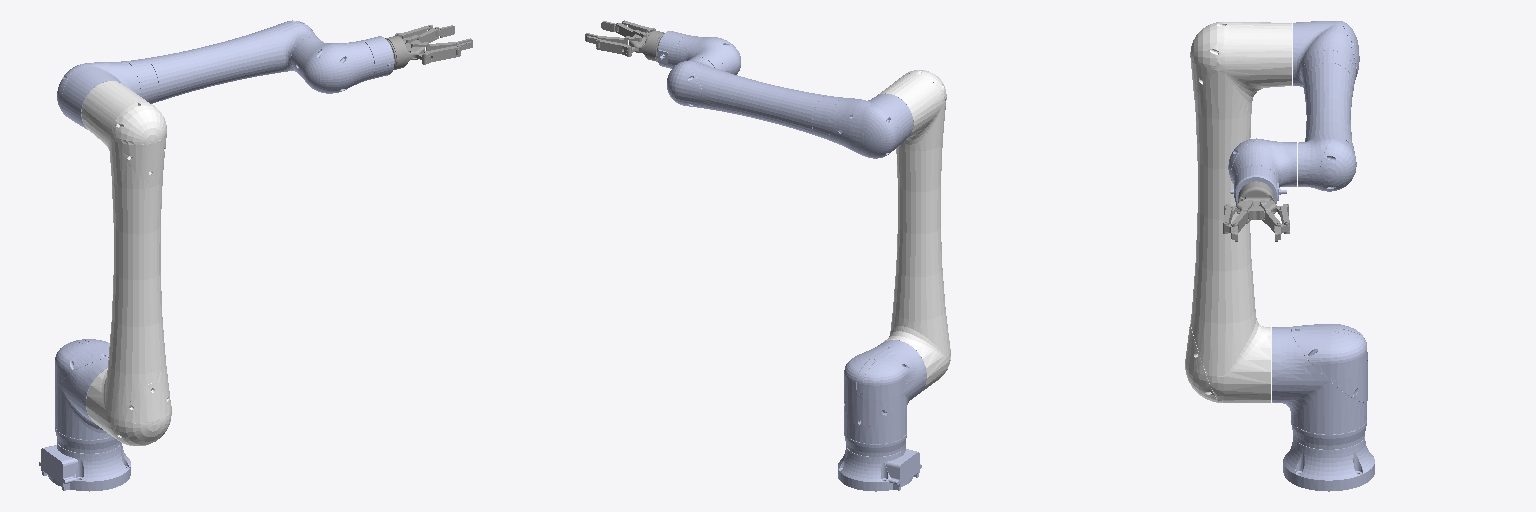
URDF robot description (fanuc):
<?xml version="1.0" encoding="utf-8"?>
<!-- This URDF was automatically created by SolidWorks to URDF Exporter! Originally created by Stephen Brawner ([email redacted]) 
     Commit Version: 1.6.0-4-g7f85cfe  Build Version: 1.6.7995.38578
     For more information, please see http://wiki.ros.org/sw_urdf_exporter -->
<robot
  name="fanuc">
  
  <link 
    name="world"/>
    
  <joint 
    name="base_joint" 
    type="fixed">
    <origin
      xyz="0 0 0.0"
      rpy="-1.57 0 0" />
    <parent
      link="world" />
    <child
      link="base_link" />
  </joint>
  
  <link
    name="base_link">
    <inertial>
      <origin xyz="-0.00329048 -0.02033528 0.00093672"/>
      <mass value="9.92000000"/>
      <inertia ixx="0.02528990" ixy="-0.00030938" ixz="-0.00000638" iyy="0.04289183" iyz="0.00000276" izz="0.02888818"/>
    </inertial>

    <visual>
      <origin
        xyz="0 0 0"
        rpy="0 0 0" />
      <geometry>
        <mesh
          filename="package://fanuc/meshes/base_link.STL" />
      </geometry>
      <material
        name="">
        <color
          rgba="0.79608 0.82353 0.93725 1" />
      </material>
    </visual>
    <collision>
      <origin
        xyz="0 0 0"
        rpy="0 0 0" />
      <geometry>
        <mesh
          filename="package://fanuc/meshes/base_link.STL" />
      </geometry>
    </collision>
  </link>
  
  <link
    name="Link_1">
    <inertial>
      <origin xyz="-0.00506694 0.00467160 0.11028854"/>
      <mass value="3.84000000"/>
      <inertia ixx="0.02569997" ixy="-0.00000034" ixz="-0.00000014" iyy="0.02211221" iyz="0.00168942" izz="0.01667992"/>
    </inertial>


    <visual>
      <origin
        xyz="0 0 0"
        rpy="0 0 0" />
      <geometry>
        <mesh
          filename="package://fanuc/meshes/Link_1.STL" />
      </geometry>
      <material
        name="">
        <color
          rgba="0.79608 0.82353 0.93725 1" />
      </material>
    </visual>
    <collision>
      <origin
        xyz="0 0 0"
        rpy="0 0 0" />
      <geometry>
        <mesh
          filename="package://fanuc/meshes/Link_1.STL" />
      </geometry>
    </collision>
  </link>
  
  <joint
    name="Joint_1"
    type="revolute">
    <origin
      xyz="0 -0.1277 0"
      rpy="1.5708 0 0" />
    <parent
      link="base_link" />
    <child
      link="Link_1" />
    <axis
      xyz="0 0 -1" />
    <limit
      lower="-3.31613"
      upper="3.31613"
      effort="0"
      velocity="2.094395" />
  </joint>
  
  <link
    name="Link_2">
    <inertial>
      <origin xyz="0.00051231 -0.24024661 0.38801491"/>
      <mass value="11.52000000"/>
      <inertia ixx="0.67622107" ixy="0.00000567" ixz="0.00002455" iyy="0.66076284" iyz="-0.02211019" izz="0.05165074"/>
    </inertial>

    <visual>
      <origin
        xyz="0 0 0"
        rpy="0 0 0" />
      <geometry>
        <mesh
          filename="package://fanuc/meshes/Link_2.STL" />
      </geometry>
      <material
        name="">
        <color
          rgba="1 1 1 1" />
      </material>
    </visual>
    <collision>
      <origin
        xyz="0 0 0"
        rpy="0 0 0" />
      <geometry>
        <mesh
          filename="package://fanuc/meshes/Link_2.STL" />
      </geometry>
    </collision>
  </link>
  
  <joint
    name="Joint_2"
    type="revolute">
    <origin
      xyz="0 0 0.1173"
      rpy="0 0 0" />
    <parent
      link="Link_1" />
    <child
      link="Link_2" />
    <axis
      xyz="0 -1 0" />
    <limit
      lower="-3.14159"
      upper="3.14159"
      effort="0"
      velocity="2.094395" />
  </joint>
  
  <link
    name="Link_3">
    <inertial>
      <origin xyz="0.01750312 0.02330679 -0.00063791"/>
      <mass value="2.88000000"/>
      <inertia ixx="0.00684691" ixy="-0.00047246" ixz="0.00000038" iyy="0.01280498" iyz="0.00000009" izz="0.01307738"/>
    </inertial>

    <visual>
      <origin
        xyz="0 0 0"
        rpy="0 0 0" />
      <geometry>
        <mesh
          filename="package://fanuc/meshes/Link_3.STL" />
      </geometry>
      <material
        name="">
        <color
          rgba="0.796078431372549 0.823529411764706 0.937254901960784 1" />
      </material>
    </visual>
    <collision>
      <origin
        xyz="0 0 0"
        rpy="0 0 0" />
      <geometry>
        <mesh
          filename="package://fanuc/meshes/Link_3.STL" />
      </geometry>
    </collision>
  </link>
  
  <joint
    name="Joint_3"
    type="revolute">
    <origin
      xyz="0 0 0.71"
      rpy="0 0 0" />
    <parent
      link="Link_2" />
    <child
      link="Link_3" />
    <axis
      xyz="0 -1 0" />
    <limit
      lower="-4.97419"
      upper="4.97419"
      effort="0"
      velocity="3.141593" />
  </joint>
  
  <link
    name="Link_4">
    <inertial>
      <origin xyz="-0.02240763 0.00549191 -0.00001857"/>
      <mass value="8.64000000"/>
      <inertia ixx="0.01445615" ixy="0.00238610" ixz="0.00000151" iyy="0.13431462" iyz="0.00000302" izz="0.13541640"/>
    </inertial>

    <visual>
      <origin
        xyz="0 0 0"
        rpy="0 0 0" />
      <geometry>
        <mesh
          filename="package://fanuc/meshes/Link_4.STL" />
      </geometry>
      <material
        name="">
        <color
          rgba="0.796078431372549 0.823529411764706 0.937254901960784 1" />
      </material>
    </visual>
    <collision>
      <origin
        xyz="0 0 0"
        rpy="0 0 0" />
      <geometry>
        <mesh
          filename="package://fanuc/meshes/Link_4.STL" />
      </geometry>
    </collision>
  </link>
  
  <joint
    name="Joint_4"
    type="revolute">
    <origin
      xyz="0.54 0 0"
      rpy="0 0 0" />
    <parent
      link="Link_3" />
    <child
      link="Link_4" />
    <axis
      xyz="-1 0 0" />
    <limit
      lower="-3.31615"
      upper="3.31615"
      effort="0"
      velocity="3.1416" />
  </joint>
  
  <link
    name="Link_5">
    <inertial>
      <origin xyz="0.00048703 0.00243462 -0.00008948"/>
      <mass value="1.60000000"/>
      <inertia ixx="0.00311136" ixy="0.00029011" ixz="-0.00000001" iyy="0.00354547" iyz="-0.00000000" izz="0.00441730"/>
    </inertial>

    <visual>
      <origin
        xyz="0 0 0"
        rpy="0 0 0" />
      <geometry>
        <mesh
          filename="package://fanuc/meshes/Link_5.STL" />
      </geometry>
      <material
        name="">
        <color
          rgba="0.796078431372549 0.823529411764706 0.937254901960784 1" />
      </material>
    </visual>
    <collision>
      <origin
        xyz="0 0 0"
        rpy="0 0 0" />
      <geometry>
        <mesh
          filename="package://fanuc/meshes/Link_5.STL" />
      </geometry>
    </collision>
  </link>
  
  <joint
    name="Joint_5"
    type="revolute">
    <origin
      xyz="0 -0.15 0"
      rpy="0 0 0" />
    <parent
      link="Link_4" />
    <child
      link="Link_5" />
    <axis
      xyz="0 -1 0" />
    <limit
      lower="-3.14159"
      upper="3.14159"
      effort="0"
      velocity="3.1416" />
  </joint>
  
  <link
    name="Link_6">
    <inertial>
      <origin xyz="-0.01318563 0.00056378 -0.00024276"/>
      <mass value="1.60000000"/>
      <inertia ixx="0.00177658" ixy="0.00000062" ixz="-0.00000001" iyy="0.00120978" iyz="0.00000003" izz="0.00141833"/>
    </inertial>

    <visual>
      <origin
        xyz="0 0 0"
        rpy="0 0 0" />
      <geometry>
        <mesh
          filename="package://fanuc/meshes/Link_6.STL" />
      </geometry>
      <material
        name="">
        <color
          rgba="0.792156862745098 0.819607843137255 0.933333333333333 1" />
      </material>
    </visual>
    <collision>
      <origin
        xyz="0 0 0"
        rpy="0 0 0" />
      <geometry>
        <mesh
          filename="package://fanuc/meshes/Link_6.STL" />
      </geometry>
    </collision>
  </link>
  
  <joint
    name="Joint_6"
    type="revolute">
    <origin
      xyz="0.16 0 0"
      rpy="0 0 0" />
    <parent
      link="Link_5" />
    <child
      link="Link_6" />
    <axis
      xyz="1 0 0" />
    <limit
      lower="-3.927"
      upper="3.927"
      effort="0"
      velocity="3.1416" />
  </joint>
  
  <link name="ee_link"/>
  
  <joint name="ee_fixed_joint" type="fixed">
    <parent link="Link_6"/>
    <child link="ee_link"/>
    <origin rpy="0.0 0.0 0" xyz="0.0 0.0 0.0"/>
  </joint>
  
  <joint 
    name="robotiq_140_base_joint" 
    type="fixed">
    <parent 
      link="ee_link"/>
    <child 
      link="robotiq_140_base_link"/>
    <origin 
      rpy="0.0 0.0 0.0" 
      xyz="0.0 0.0 0.0"/>
  </joint>
    
  <link 
    name="robotiq_140_base_link">
    <visual>
      <geometry>
        <mesh 
          filename="package://fanuc/meshes/robotiq_140/visual/robotiq_140_base_link.dae"/>
      </geometry>
    </visual>
    <inertial>
      <mass 
        value="0.636951"/>
      <origin 
        xyz="0.0 0.0 0.0"/>
      <inertia ixx="0.000380" ixy="0.000000" ixz="0.000000" iyx="0.000000" iyy="0.001110" iyz="0.000000" izx="0.000000" izy="0.000000" izz="0.001171"/>
    </inertial>
    <collision>
      <origin
        xyz="0 0 0"
        rpy="0 0 0" />
      <geometry>
        <mesh
          filename="package://fanuc/meshes/robotiq_140/collision/robotiq_140_base_link.stl" />
      </geometry>
    </collision>
  </link>
  
  <joint 
    name="robotiq_140_left_knuckle_joint" 
    type="revolute">
    <parent link="robotiq_140_base_link"/>
    <child link="robotiq_140_left_knuckle_link"/>
    <axis xyz="0 0 1"/>
    <origin rpy="3.14 0.0 0.0" xyz="0.05490452 0.03060114 0.0"/>
    <limit effort="1000" lower="-0.402" upper="0.402" velocity="2.0"/>
  </joint>
    
  <joint 
    name="robotiq_140_right_knuckle_joint" 
    type="continuous">
    <parent link="robotiq_140_base_link"/>
    <child link="robotiq_140_right_knuckle_link"/>
    <axis xyz="0 0 1"/>
    <origin rpy="0.0 0.0 0.0" xyz="0.05490452 -0.03060114 0.0"/>
    <limit effort="1000" lower="-3.14" upper="3.14" velocity="100.0"/>
    <mimic joint="robotiq_140_left_knuckle_joint"/>
  </joint>
    
  <link 
    name="robotiq_140_left_knuckle_link">
    <visual>
      <geometry>
        <mesh filename="package://fanuc/meshes/robotiq_140/visual/robotiq_140_knuckle_link.dae"/>
      </geometry>
    </visual>
    <inertial>
      <mass value="0.018491"/>
      <origin xyz="0.0 0.0 0.0"/>
      <inertia ixx="0.000009" ixy="-0.000001" ixz="0.000000" iyx="-0.000001" iyy="0.000001" iyz="0.000000" izx="0.000000" izy="0.000000" izz="0.000010"/>
    </inertial>
    <collision>
      <origin
        xyz="0 0 0"
        rpy="0 0 0" />
      <geometry>
        <mesh
          filename="package://fanuc/meshes/robotiq_140/collision/robotiq_140_knuckle_link.stl" />
      </geometry>
    </collision>
  </link>
    
  <link 
    name="robotiq_140_right_knuckle_link">
    <visual>
      <geometry>
        <mesh filename="package://fanuc/meshes/robotiq_140/visual/robotiq_140_knuckle_link.dae"/>
      </geometry>
    </visual>
    <inertial>
      <mass value="0.018491"/>
      <origin xyz="0.0 0.0 0.0"/>
      <inertia ixx="0.000009" ixy="-0.000001" ixz="0.000000" iyx="-0.000001" iyy="0.000001" iyz="0.000000" izx="0.000000" izy="0.000000" izz="0.000010"/>
    </inertial>
    <collision>
      <origin
        xyz="0 0 0"
        rpy="0 0 0" />
      <geometry>
        <mesh
          filename="package://fanuc/meshes/robotiq_140/collision/robotiq_140_knuckle_link.stl" />
      </geometry>
    </collision>
  </link>
    
  <joint 
    name="robotiq_140_left_finger_joint" 
    type="fixed">
    <parent link="robotiq_140_left_knuckle_link"/>
    <child link="robotiq_140_left_finger_link"/>
    <origin rpy="0 0 0" xyz="0.00795779 -0.03073656 0.0"/>
  </joint>
    
  <joint 
    name="robotiq_140_right_finger_joint" 
    type="fixed">
    <parent link="robotiq_140_right_knuckle_link"/>
    <child link="robotiq_140_right_finger_link"/>
    <origin rpy="0 0 0" xyz="0.00795779 -0.03073656 0.0"/>
  </joint>
    
  <link 
    name="robotiq_140_left_finger_link">
    <visual>
      <geometry>
        <mesh filename="package://fanuc/meshes/robotiq_140/visual/robotiq_140_finger_link.dae"/>
      </geometry>
    </visual>
    <inertial>
      <mass value="0.027309"/>
      <origin xyz="0.0 0.0 0.0"/>
      <inertia ixx="0.000003" ixy="-0.000002" ixz="0.000000" iyx="-0.000002" iyy="0.000021" iyz="0.000000" izx="0.000000" izy="0.000000" izz="0.000020"/>
    </inertial>
    <collision>
      <origin
        xyz="0 0 0"
        rpy="0 0 0" />
      <geometry>
        <mesh
          filename="package://fanuc/meshes/robotiq_140/collision/robotiq_140_finger_link.stl" />
      </geometry>
    </collision>
  </link>
  
  <link 
    name="robotiq_140_right_finger_link">
    <visual>
      <geometry>
        <mesh filename="package://fanuc/meshes/robotiq_140/visual/robotiq_140_finger_link.dae"/>
      </geometry>
    </visual>
    <inertial>
      <mass value="0.027309"/>
      <origin xyz="0.0 0.0 0.0"/>
      <inertia ixx="0.000003" ixy="-0.000002" ixz="0.000000" iyx="-0.000002" iyy="0.000021" iyz="0.000000" izx="0.000000" izy="0.000000" izz="0.000020"/>
    </inertial>
    <collision>
      <origin
        xyz="0 0 0"
        rpy="0 0 0" />
      <geometry>
        <mesh
          filename="package://fanuc/meshes/robotiq_140/collision/robotiq_140_finger_link.stl" />
      </geometry>
    </collision>
  </link>
  
  <joint 
    name="robotiq_140_left_inner_knuckle_joint" 
    type="continuous">
    <parent link="robotiq_140_base_link"/>
    <child link="robotiq_140_left_inner_knuckle_link"/>
    <axis xyz="0 0 1"/>
    <origin rpy="3.14 0.0 0.0" xyz="0.06142 0.0127 0"/>
    <limit effort="0.1" lower="-3.14" upper="3.14" velocity="100.0"/>
    <mimic joint="robotiq_140_left_knuckle_joint" offset="0"/>
  </joint>
    
  <joint 
    name="robotiq_140_right_inner_knuckle_joint" 
    type="continuous">
    <parent link="robotiq_140_base_link"/>
    <child link="robotiq_140_right_inner_knuckle_link"/>
    <axis xyz="0 0 1"/>
    <origin rpy="0 0 0" xyz="0.06142 -0.0127 0"/>
    <limit effort="0.1" lower="-3.14" upper="3.14" velocity="100.0"/>
    <mimic joint="robotiq_140_left_knuckle_joint" offset="0"/>
  </joint>
    
  <link 
    name="robotiq_140_left_inner_knuckle_link">
    <visual>
      <geometry>
        <mesh filename="package://fanuc/meshes/robotiq_140/visual/robotiq_140_inner_knuckle_link.dae"/>
      </geometry>
    </visual>
    <inertial>
      <mass value="0.029951"/>
      <origin xyz="0.0 0.0 0.0"/>
      <inertia ixx="0.000039" ixy="0.000000" ixz="0.000000" iyx="0.000000" iyy="0.000005" iyz="0.000000" izx="0.000000" izy="0.000000" izz="0.000035"/>
    </inertial>
    <collision>
      <origin
        xyz="0 0 0"
        rpy="0 0 0" />
      <geometry>
        <mesh
          filename="package://fanuc/meshes/robotiq_140/collision/robotiq_140_inner_knuckle_link.stl" />
      </geometry>
    </collision>  
  </link>
  
  <link 
    name="robotiq_140_right_inner_knuckle_link">
    <visual>
      <geometry>
        <mesh filename="package://fanuc/meshes/robotiq_140/visual/robotiq_140_inner_knuckle_link.dae"/>
      </geometry>
    </visual>
    <inertial>
      <mass value="0.029951"/>
      <origin xyz="0.0 0.0 0.0"/>
      <inertia ixx="0.000039" ixy="0.000000" ixz="0.000000" iyx="0.000000" iyy="0.000005" iyz="0.000000" izx="0.000000" izy="0.000000" izz="0.000035"/>
    </inertial>
    <collision>
      <origin
        xyz="0 0 0"
        rpy="0 0 0" />
      <geometry>
        <mesh
          filename="package://fanuc/meshes/robotiq_140/collision/robotiq_140_inner_knuckle_link.stl" />
      </geometry>
    </collision> 
  </link>
 
  <joint 
    name="robotiq_140_left_finger_tip_joint" 
    type="continuous">
    <parent link="robotiq_140_left_inner_knuckle_link"/>
    <child link="robotiq_140_left_finger_tip_link"/>
    <axis xyz="0 0 1"/>
    <origin rpy="0.0 0.0 0.0" xyz="0.09441861 -0.03294127 0.0"/>
    <limit effort="0.1" lower="-3.14" upper="3.14" velocity="100.0"/>
    <mimic joint="robotiq_140_left_knuckle_joint" multiplier="-1"/>
  </joint>
 
  <joint 
    name="robotiq_140_right_finger_tip_joint" 
    type="continuous">
    <parent link="robotiq_140_right_inner_knuckle_link"/>
    <child link="robotiq_140_right_finger_tip_link"/>
    <axis xyz="0 0 1"/>
    <origin rpy="0.0 0.0 0.0" xyz="0.09441861 -0.03294127  0.0"/>
    <limit effort="0.1" lower="-3.14" upper="3.14" velocity="100.0"/>
    <mimic joint="robotiq_140_left_knuckle_joint" multiplier="-1"/>
  </joint>
 
  <link 
    name="robotiq_140_left_finger_tip_link">
    <visual>
      <geometry>
        <mesh filename="package://fanuc/meshes/robotiq_140/visual/robotiq_140_finger_tip_link.dae"/>
      </geometry>
    </visual>
    <inertial>
      <mass value="0.019555"/>
      <origin xyz="0.0 0.0 0.0"/>
      <inertia ixx="0.000002" ixy="0.000000" ixz="0.000000" iyx="0.000000" iyy="0.000005" iyz="0.000000" izx="0.000000" izy="0.000000" izz="0.000006"/>
    </inertial>
    <collision>
      <origin
        xyz="0 0 0"
        rpy="0 0 0" />
      <geometry>
        <mesh
          filename="package://fanuc/meshes/robotiq_140/collision/robotiq_140_finger_tip_link.stl" />
      </geometry>
    </collision> 
  </link>
    
  <link 
    name="robotiq_140_right_finger_tip_link">
    <visual>
      <geometry>
        <mesh filename="package://fanuc/meshes/robotiq_140/visual/robotiq_140_finger_tip_link.dae"/>
      </geometry>
    </visual>
    <inertial>
      <mass value="0.019555"/>
      <origin xyz="0.0 0.0 0.0"/>
      <inertia ixx="0.000002" ixy="0.000000" ixz="0.000000" iyx="0.000000" iyy="0.000005" iyz="0.000000" izx="0.000000" izy="0.000000" izz="0.000006"/>
    </inertial>
    <collision>
      <origin
        xyz="0 0 0"
        rpy="0 0 0" />
      <geometry>
        <mesh
          filename="package://fanuc/meshes/robotiq_140/collision/robotiq_140_finger_tip_link.stl" />
      </geometry>
    </collision> 
  </link>
  
  <transmission 
    name="Link_1_Trans">
    <type>
      transmission_interface/SimpleTransmission
    </type>
    <joint 
    	name="Joint_1">
      <hardwareInterface>
        hardware_interface/PositionJointInterface
      </hardwareInterface>
    </joint>
    <actuator
      name="Joint_1_Motor">
      <hardwareInterface>
        hardware_interface/PositionJointInterface
      </hardwareInterface>
      <mechanicalReduction>1</mechanicalReduction>
    </actuator>
  </transmission>
  
  <transmission 
    name="Link_2_Trans">
    <type>
      transmission_interface/SimpleTransmission
    </type>
    <joint 
    	name="Joint_2">
      <hardwareInterface>
        hardware_interface/PositionJointInterface
      </hardwareInterface>
    </joint>
    <actuator
      name="Joint_2_Motor">
      <hardwareInterface>
        hardware_interface/PositionJointInterface
      </hardwareInterface>
      <mechanicalReduction>1</mechanicalReduction>
    </actuator>
  </transmission>
  
  <transmission 
    name="Link_3_Trans">
    <type>
      transmission_interface/SimpleTransmission
    </type>
    <joint 
    	name="Joint_3">
      <hardwareInterface>
        hardware_interface/PositionJointInterface
      </hardwareInterface>
    </joint>
    <actuator
      name="Joint_3_Motor">
      <hardwareInterface>
        hardware_interface/PositionJointInterface
      </hardwareInterface>
      <mechanicalReduction>1</mechanicalReduction>
    </actuator>
  </transmission>
  
  <transmission 
    name="Link_4_Trans">
    <type>
      transmission_interface/SimpleTransmission
    </type>
    <joint 
    	name="Joint_4">
      <hardwareInterface>
        hardware_interface/PositionJointInterface
      </hardwareInterface>
    </joint>
    <actuator
      name="Joint_4_Motor">
      <hardwareInterface>
        hardware_interface/PositionJointInterface
      </hardwareInterface>
      <mechanicalReduction>1</mechanicalReduction>
    </actuator>
  </transmission>
  
  <transmission 
    name="Link_5_Trans">
    <type>
      transmission_interface/SimpleTransmission
    </type>
    <joint 
    	name="Joint_5">
      <hardwareInterface>
        hardware_interface/PositionJointInterface
      </hardwareInterface>
    </joint>
    <actuator
      name="Joint_5_Motor">
      <hardwareInterface>
        hardware_interface/PositionJointInterface
      </hardwareInterface>
      <mechanicalReduction>1</mechanicalReduction>
    </actuator>
  </transmission>
  
  <transmission 
    name="Link_6_Trans">
    <type>
      transmission_interface/SimpleTransmission
    </type>
    <joint 
    	name="Joint_6">
      <hardwareInterface>
        hardware_interface/PositionJointInterface
      </hardwareInterface>
    </joint>
    <actuator
      name="Joint_6_Motor">
      <hardwareInterface>
        hardware_interface/PositionJointInterface
      </hardwareInterface>
      <mechanicalReduction>1</mechanicalReduction>
    </actuator>
  </transmission>
  
  <transmission name="robotiq_140_left_knuckle_trans">
    <type>transmission_interface/SimpleTransmission</type>
    <joint name="robotiq_140_left_knuckle_joint">
      <hardwareInterface>hardware_interface/PositionJointInterface</hardwareInterface>
    </joint>
      <actuator name="robotiq_140_left_knuckle_motor">
      <mechanicalReduction>1</mechanicalReduction>
      <hardwareInterface>hardware_interface/PositionJointInterface</hardwareInterface>
    </actuator>
  </transmission>

  <gazebo>
    <plugin
      name="control"
      filename="libgazebo_ros_control.so">
      <robotNamespace>/</robotNamespace>
    </plugin>
  </gazebo>
  
  <gazebo
    reference="Link_1">
    <selfCollide>true</selfCollide>
  </gazebo>
  
  <gazebo
    reference="Link_2">
    <selfCollide>true</selfCollide>
  </gazebo>
  
  <gazebo
    reference="Link_3">
    <selfCollide>true</selfCollide>
  </gazebo>
  
  <gazebo
    reference="Link_4">
    <selfCollide>true</selfCollide>
  </gazebo>
  
  <gazebo
    reference="Link_5">
    <selfCollide>true</selfCollide>
  </gazebo>
  
  <gazebo
    reference="Link_6">
    <selfCollide>true</selfCollide>
  </gazebo>
  
  <gazebo>
    <plugin filename="libroboticsgroup_gazebo_mimic_joint_plugin.so" name="mimic_robotiq_140_1">
      <robotNamespace>/</robotNamespace>
      <joint>robotiq_140_left_knuckle_joint</joint>
      <mimicJoint>robotiq_140_right_knuckle_joint</mimicJoint>
      <!--multiplier>1.0</multiplier>
            <offset>0.0</offset-->
    </plugin>
    
    <plugin filename="libroboticsgroup_gazebo_mimic_joint_plugin.so" name="mimic_robotiq_140_2">
      <robotNamespace>/</robotNamespace>
      <joint>robotiq_140_left_knuckle_joint</joint>
      <mimicJoint>robotiq_140_left_inner_knuckle_joint</mimicJoint>
      <!--multiplier>1.0</multiplier>
            <offset>0.0</offset-->
    </plugin>
    
    <plugin filename="libroboticsgroup_gazebo_mimic_joint_plugin.so" name="mimic_robotiq_140_3">
      <robotNamespace>/</robotNamespace>
      <joint>robotiq_140_left_knuckle_joint</joint>
      <mimicJoint>robotiq_140_right_inner_knuckle_joint</mimicJoint>
      <!--multiplier>1.0</multiplier>
            <offset>0.0</offset-->
    </plugin>
    
    <plugin filename="libroboticsgroup_gazebo_mimic_joint_plugin.so" name="mimic_robotiq_140_4">
      <robotNamespace>/</robotNamespace>
      <joint>robotiq_140_left_knuckle_joint</joint>
      <mimicJoint>robotiq_140_left_finger_tip_joint</mimicJoint>
      <multiplier>-1.0</multiplier>
      <offset>0.0</offset>
    </plugin>
    
    <plugin filename="libroboticsgroup_gazebo_mimic_joint_plugin.so" name="mimic_robotiq_140_5">
      <robotNamespace>/</robotNamespace>
      <joint>robotiq_140_left_knuckle_joint</joint>
      <mimicJoint>robotiq_140_right_finger_tip_joint</mimicJoint>
      <multiplier>-1.0</multiplier>
      <offset>0.0</offset>
    </plugin>
  </gazebo>
  
</robot>

--- Facts derived from the render (not from the file) ---
The picture shows the robot from 3 angles, left to right: view 1: azimuth 30°, elevation 25°; view 2: azimuth 150°, elevation 25°; view 3: azimuth 270°, elevation 25°; orthographic projection.
Model fanuc with 18 links and 17 joints (7 revolute, 5 continuous, 5 fixed), rooted at world, posed all joints at 0.
Links seen in each view (by area): view 1: Link_2, Link_4, Link_1, Link_5, Link_3, base_link, Link_6, robotiq_140_base_link; view 2: Link_2, Link_1, Link_4, Link_3, base_link, Link_5, Link_6, robotiq_140_base_link; view 3: Link_2, Link_1, Link_4, base_link, Link_3, Link_5, robotiq_140_base_link, Link_6.
Link boxes in pixels (bbox=[...]): Link_2: bbox=[81, 81, 171, 445]; Link_4: bbox=[145, 20, 318, 102]; Link_1: bbox=[55, 339, 120, 453]; Link_5: bbox=[291, 37, 374, 93]; Link_3: bbox=[57, 59, 158, 129]; base_link: bbox=[39, 443, 130, 491]; Link_6: bbox=[361, 36, 394, 78]; robotiq_140_base_link: bbox=[385, 36, 424, 69]; Link_2: bbox=[878, 70, 950, 391]; Link_1: bbox=[844, 340, 926, 456]; Link_4: bbox=[667, 57, 825, 135]; Link_3: bbox=[812, 94, 913, 158]; base_link: bbox=[838, 445, 921, 491]; Link_5: bbox=[675, 35, 740, 74]; Link_6: bbox=[657, 31, 685, 68]; robotiq_140_base_link: bbox=[629, 31, 664, 61]; Link_2: bbox=[1185, 22, 1291, 402]; Link_1: bbox=[1272, 324, 1367, 449]; Link_4: bbox=[1298, 63, 1356, 191]; base_link: bbox=[1283, 437, 1374, 491]; Link_3: bbox=[1293, 21, 1359, 87]; Link_5: bbox=[1228, 138, 1296, 187]; robotiq_140_base_link: bbox=[1236, 181, 1276, 219]; Link_6: bbox=[1230, 165, 1286, 203].
Size in the robot's own frame: 0.9991 by 0.3936 by 1.03 metres.
Meshes: 12 distinct files referenced, 16 mesh visuals loaded (7 binary STL, 5 Collada DAE).
